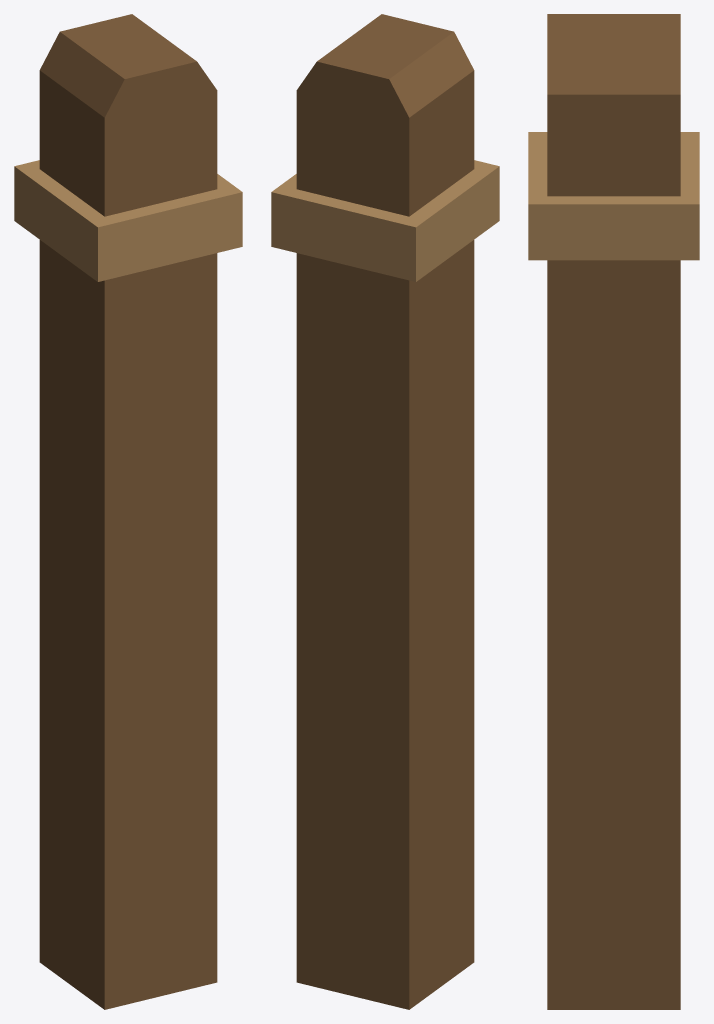
The model's file is TW_WOOD_POST_B_LOD0.glb.
3 views of the same model, side by side, from view 1: azimuth 30°, elevation 25°; view 2: azimuth 150°, elevation 25°; view 3: azimuth 270°, elevation 25° (orthographic). The views are drawn at different scales.
Parts seen in each view (by area): view 1: TW_WOOD_POST_B_LOD0; view 2: TW_WOOD_POST_B_LOD0; view 3: TW_WOOD_POST_B_LOD0.
Part boxes in pixels (box(x1,y1,x2,y2)): TW_WOOD_POST_B_LOD0: box(14, 14, 242, 1009); TW_WOOD_POST_B_LOD0: box(271, 14, 499, 1009); TW_WOOD_POST_B_LOD0: box(528, 14, 699, 1009).
Bounding box in the file's own units: 0.18 × 1.1 × 0.18.
Materials: 1 (1 with a texture image).
